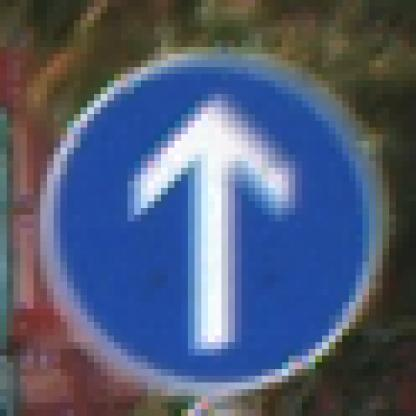AheadOnly: (42, 41, 384, 377)
